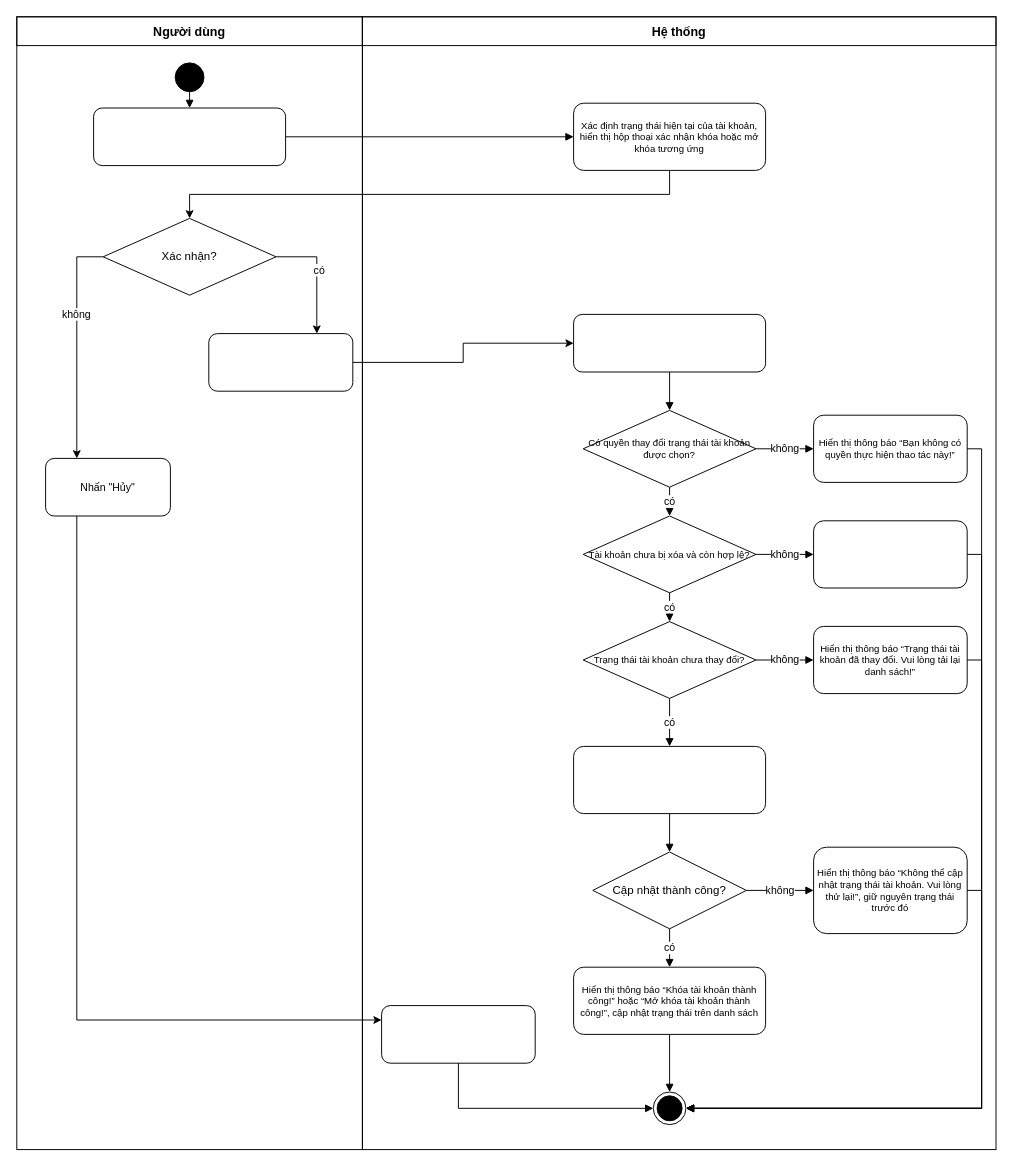
Some shapes in this 1013 by 1166 pixel diagram are drawn without their labels. Here are the shapes that lost their labels. From the top down, the centre of each, then its label:
point (189, 136): Nhấn biểu tượng “Khóa/Mở khóa” tại dòng nhân viên cần thay đổi trạng thái
point (280, 362): Nhấn "Xác nhận"
point (669, 342): Kiểm tra quyền thực hiện và trạng thái tài khoản nhân viên
point (890, 554): Hiển thị thông báo “Không thể thay đổi trạng thái tài khoản này!”
point (669, 779): Cập nhật trạng thái tài khoản: “Hoạt động” sang “Đã khóa” hoặc ngược lại.
point (458, 1034): Đóng hộp thoại, không thay đổi trạng thái tài khoản
